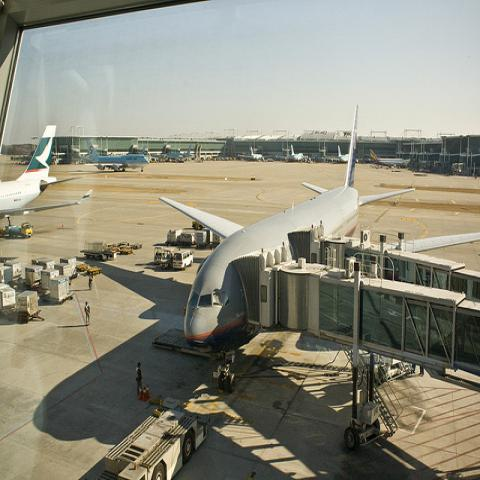bus: (172, 248, 193, 268)
truck: (99, 406, 208, 479), (48, 275, 74, 306), (54, 256, 77, 280), (165, 230, 195, 246), (198, 232, 222, 252), (5, 222, 33, 238), (173, 250, 193, 270), (31, 256, 48, 264)
